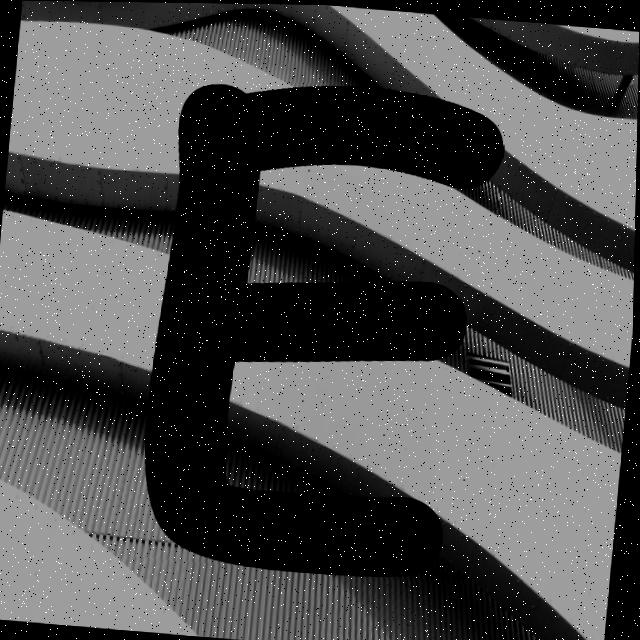E: (148, 84, 503, 575)
